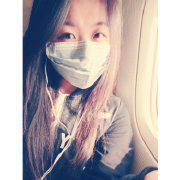OK: (47, 18, 116, 87)
